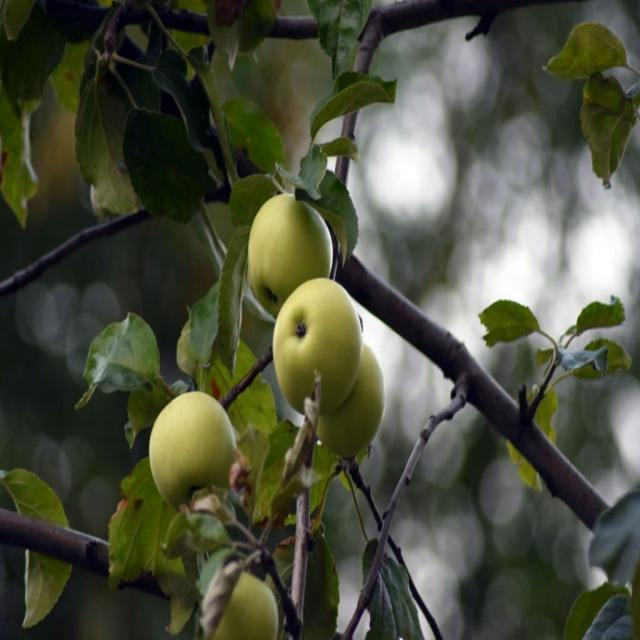Green Apple: (150, 387, 234, 510), (286, 277, 364, 407), (249, 199, 327, 323), (315, 345, 387, 445), (214, 565, 284, 640)
